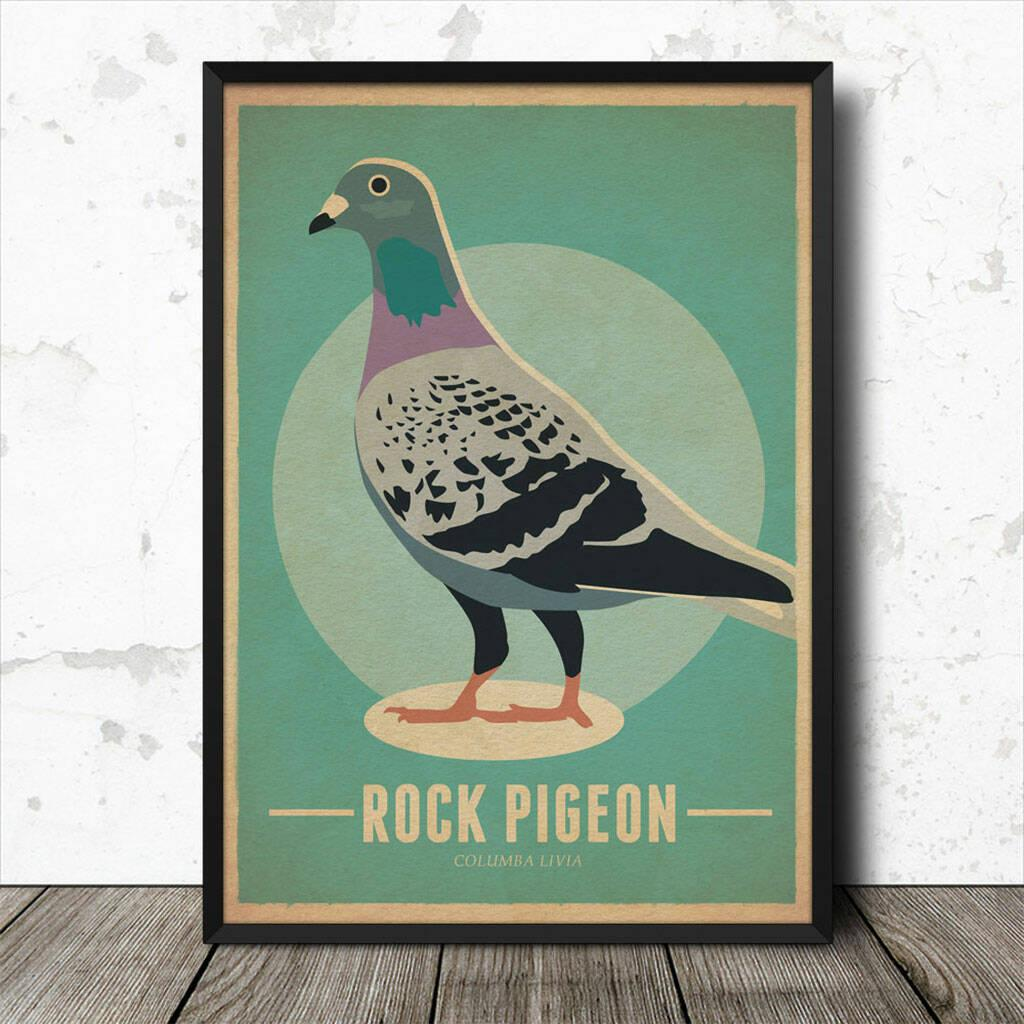Flying Rat: (306, 162, 790, 748)
